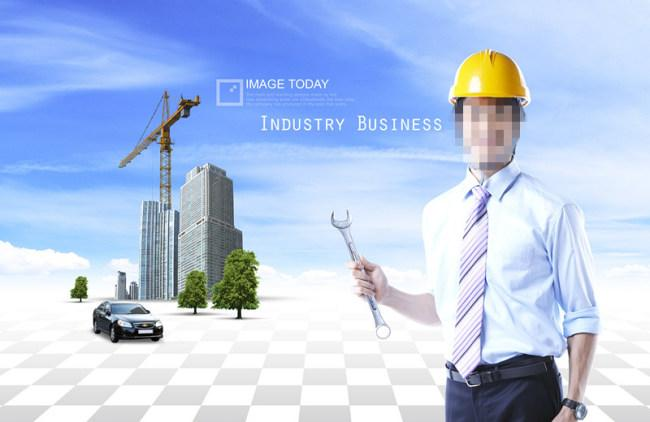helmet: (447, 50, 533, 112)
